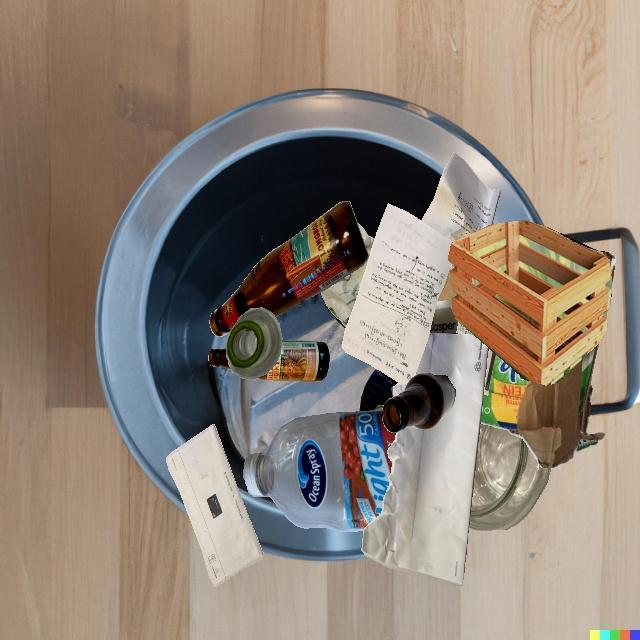cardboard: (452, 259, 611, 389), (480, 354, 606, 468)
combustible waste: (448, 220, 612, 385)
glass: (209, 201, 368, 337), (469, 423, 551, 531), (382, 373, 456, 433), (226, 307, 282, 379), (258, 340, 330, 382), (373, 405, 383, 411)
paper: (361, 333, 488, 586), (341, 204, 453, 385), (166, 425, 264, 586), (378, 330, 474, 474), (421, 152, 501, 242), (319, 222, 375, 329), (483, 347, 496, 395), (456, 321, 473, 334)
plastic: (243, 410, 396, 532)
